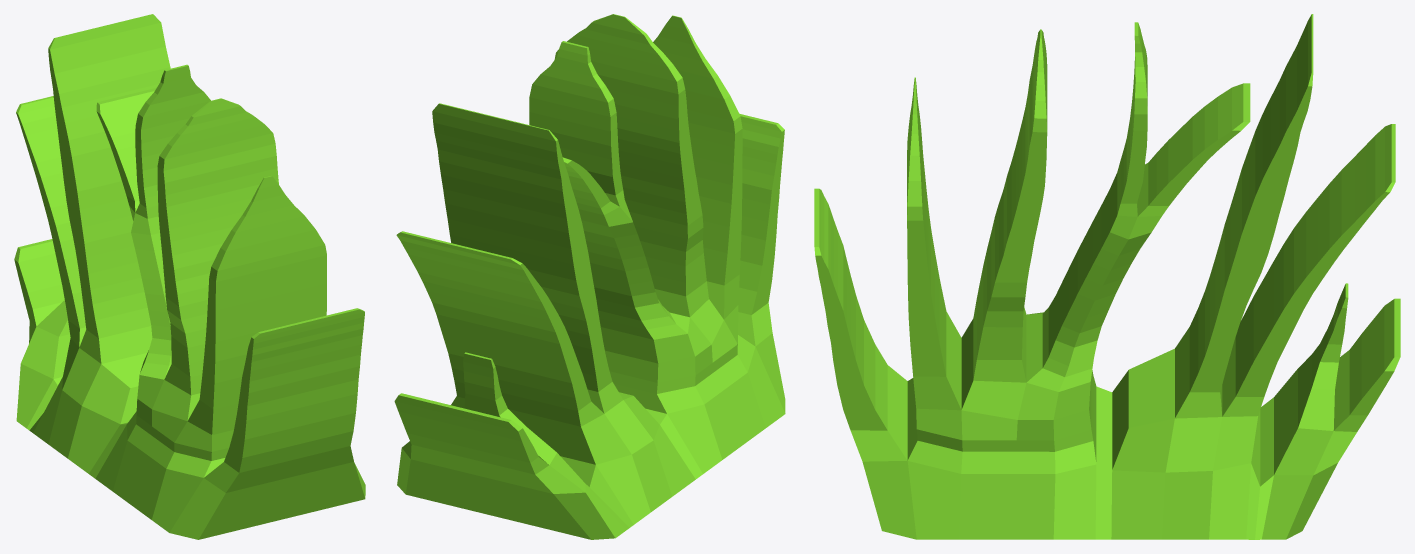
The model's file is grama1.fbx.
3 views of the same model, side by side, from view 1: azimuth 30°, elevation 25°; view 2: azimuth 150°, elevation 25°; view 3: azimuth 270°, elevation 25° (orthographic). The views are drawn at different scales.
Parts seen in each view (by area): view 1: Cube; view 2: Cube; view 3: Cube.
Part boxes in pixels (x1,y1,x2,y2): Cube: (14, 14, 365, 539); Cube: (394, 14, 785, 539); Cube: (814, 14, 1400, 539).
Size of the model in its own units: 49.4 by 89.86 by 105.
